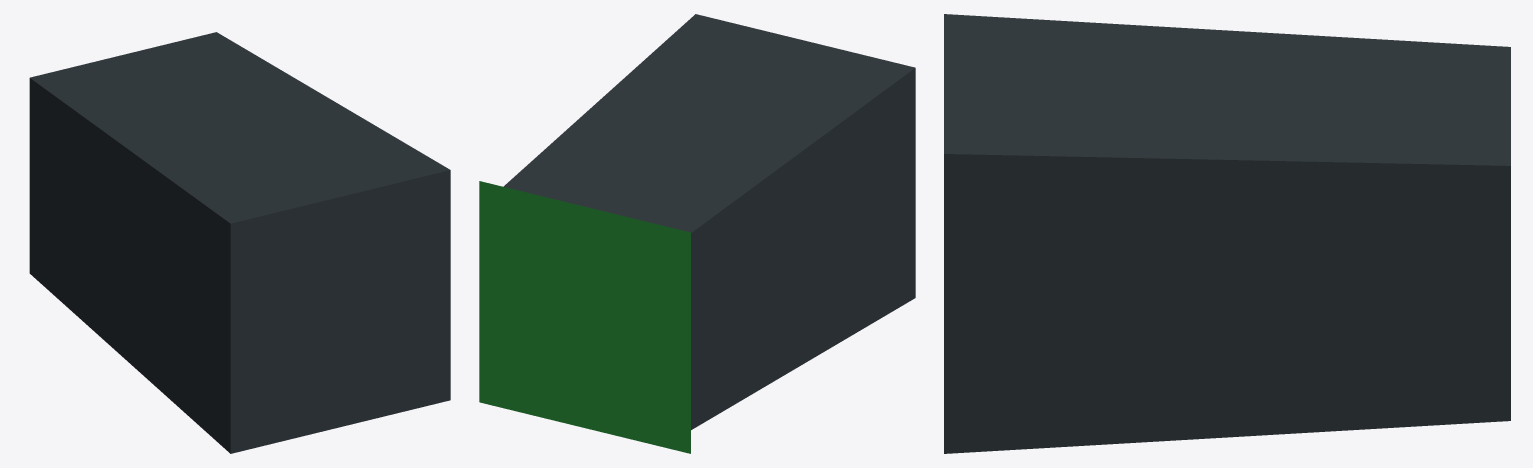
3 views of the same model, side by side, from view 1: azimuth 30°, elevation 25°; view 2: azimuth 150°, elevation 25°; view 3: azimuth 270°, elevation 25° (orthographic). The views are drawn at different scales.
Visible parts, largest first — view 1: mount; view 2: mount; view 3: mount.
Boxes of the visible parts, x1=… form: mount: x1=29, y1=32, x2=450, y2=453; mount: x1=479, y1=14, x2=915, y2=453; mount: x1=944, y1=14, x2=1510, y2=453.
Bounding box in the file's own units: 1.27 × 1.27 × 2.21.
